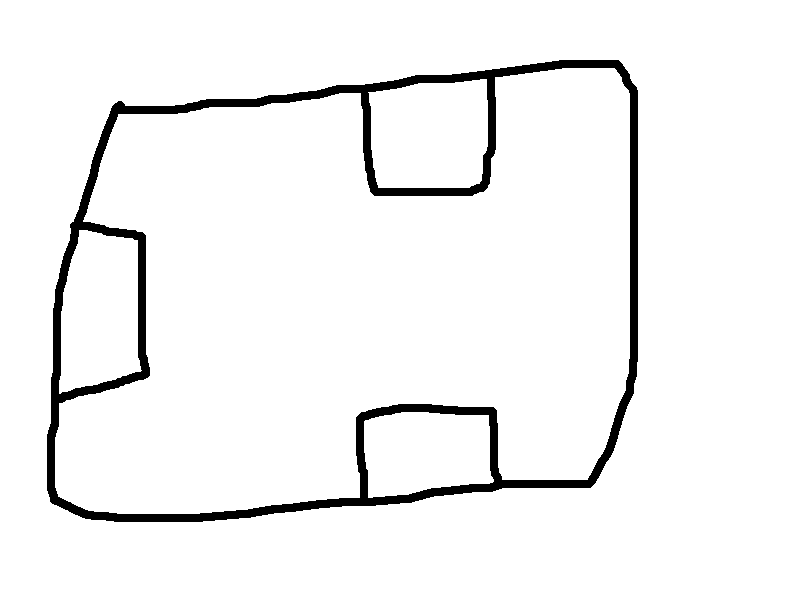dog: (33, 51, 649, 525), (45, 216, 156, 410), (349, 66, 504, 204), (349, 396, 508, 499)
